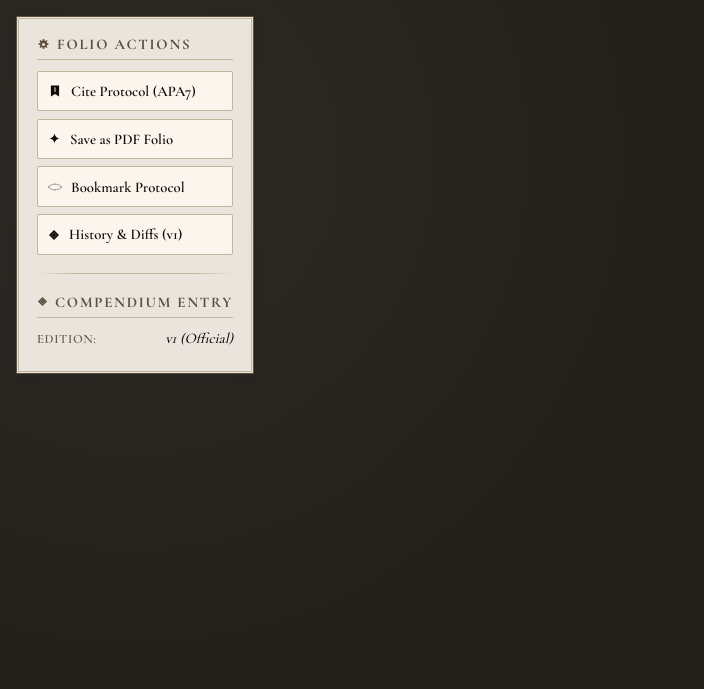
Test case: Client-Side Bookmarks Engine (WP-10) › ArticleUtilities Integration › reflects active bookmarked state and toggles protocol saving with toast notice
This screenshot has width=704, height=689.
Click the button "Bookmark Protocol": (135, 187) top-left (37, 166), bottom-right (233, 207)
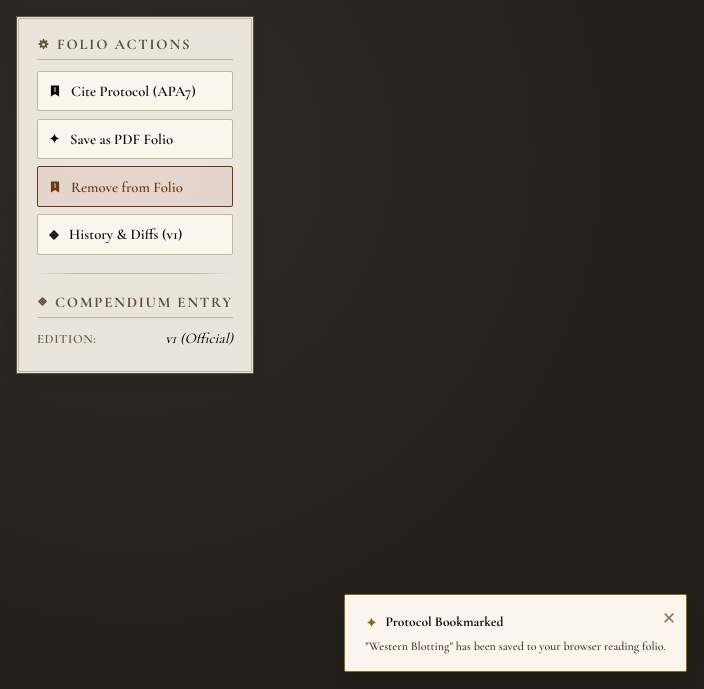
Check: the text "Protocol Bookmarked" is shown, box top-left (386, 611), bottom-right (503, 634)
Check: the button "Remove from Folio" is shown
Note: Click again removes it
Click the button "Remove from Folio": (135, 187) top-left (37, 166), bottom-right (233, 207)
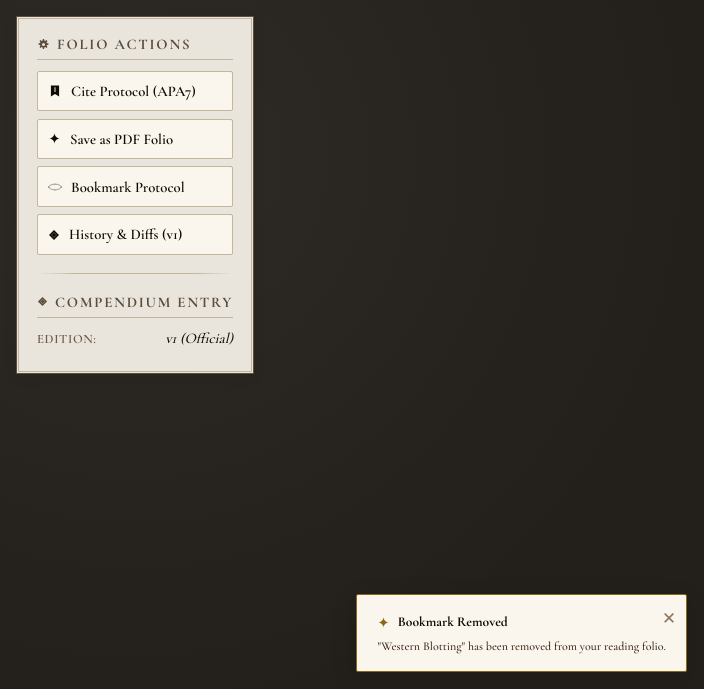
Check: the text "Bookmark Removed" is shown, box top-left (398, 611), bottom-right (508, 634)
